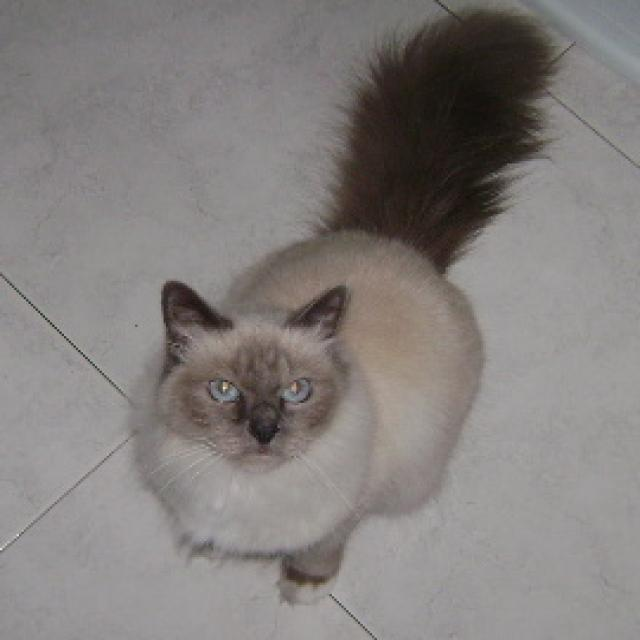Birman: (126, 2, 557, 607)
